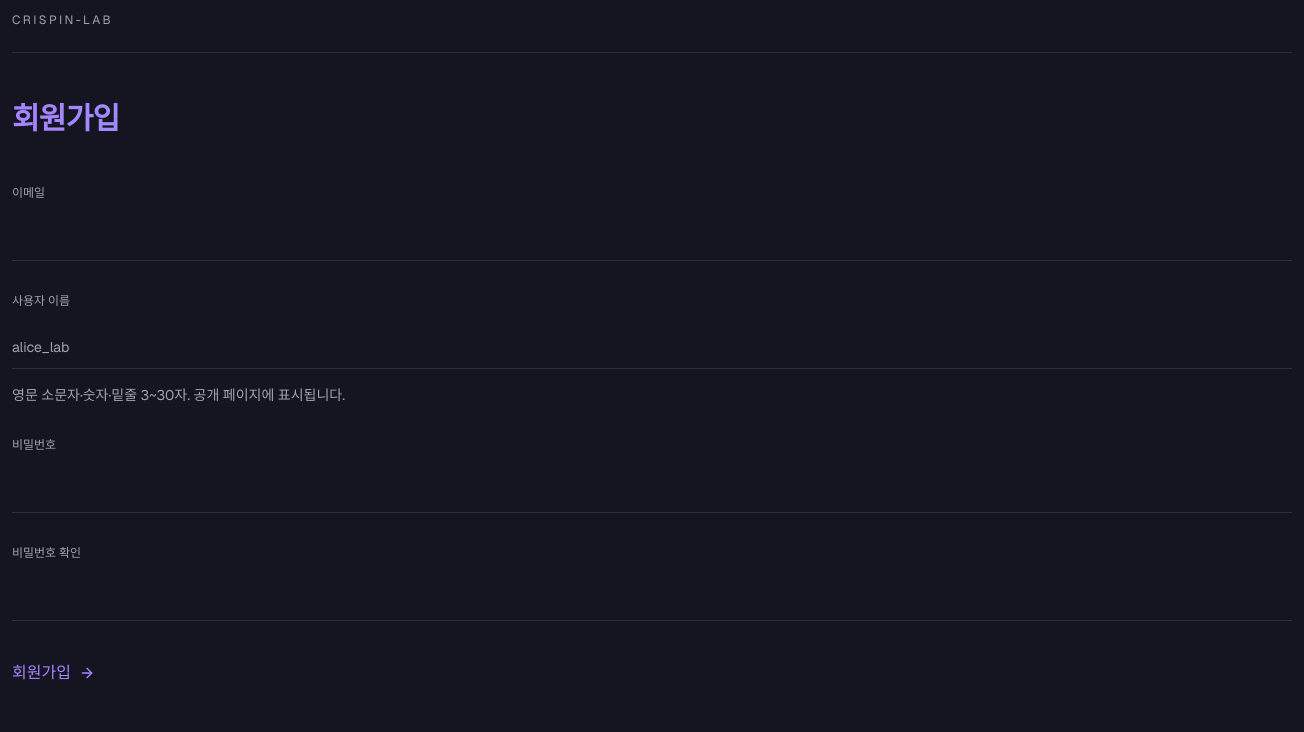
Test: SignupForm › 잘못된 이메일은 FormMessage 를 노출하고 submit 이 막힌다
Type "not-an-email" into the field labelled "이메일" at (652, 239), box [12,217,1292,261]
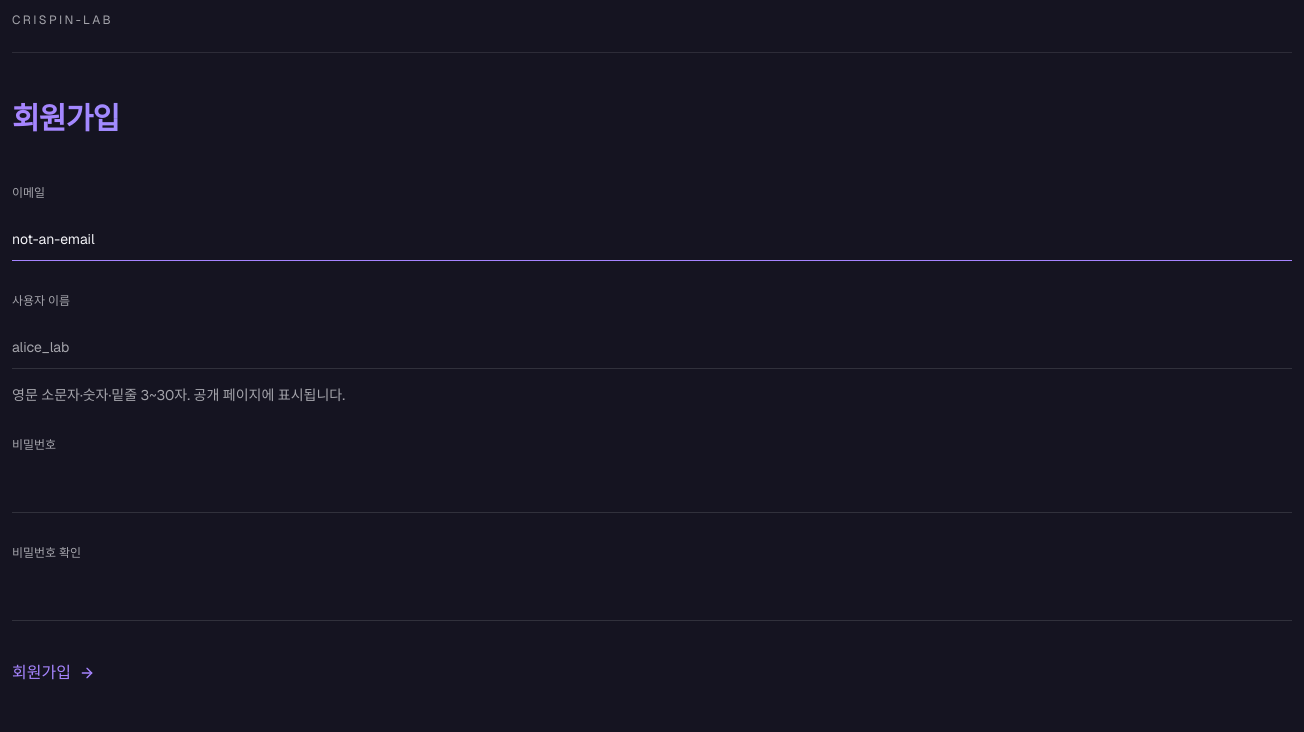
Type "alice" into the field labelled "사용자 이름" at (652, 347), box [12,325,1292,369]
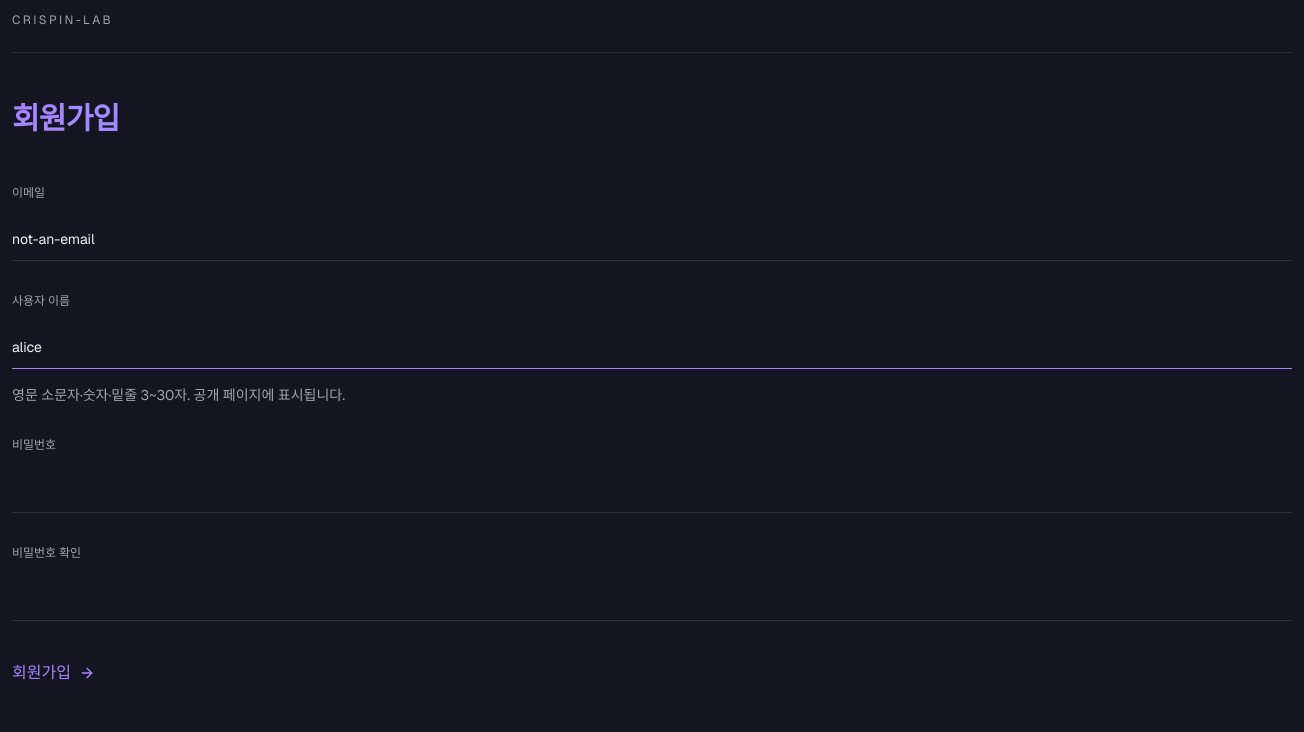
Type "password1" into the password field labelled "비밀번호" at (652, 491), box [12,469,1292,513]
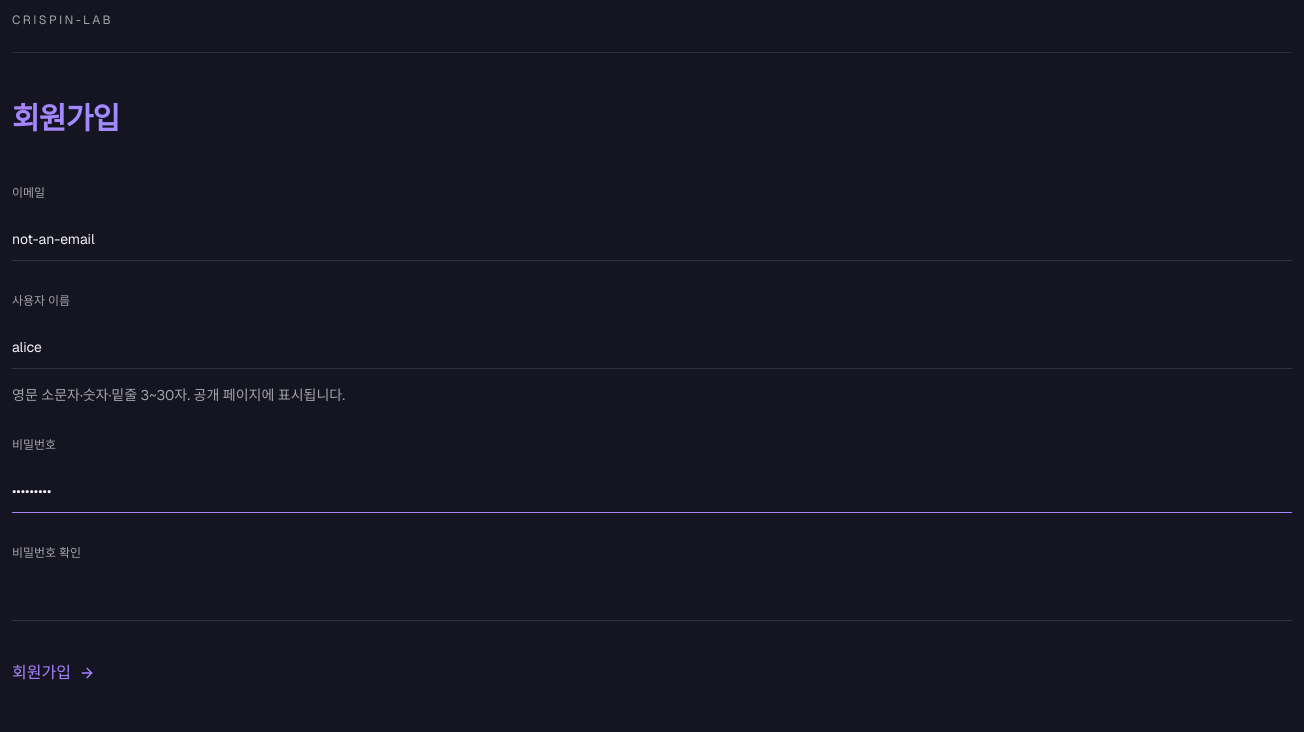
Click the button "회원가입" at (53, 673), box [12,661,95,685]
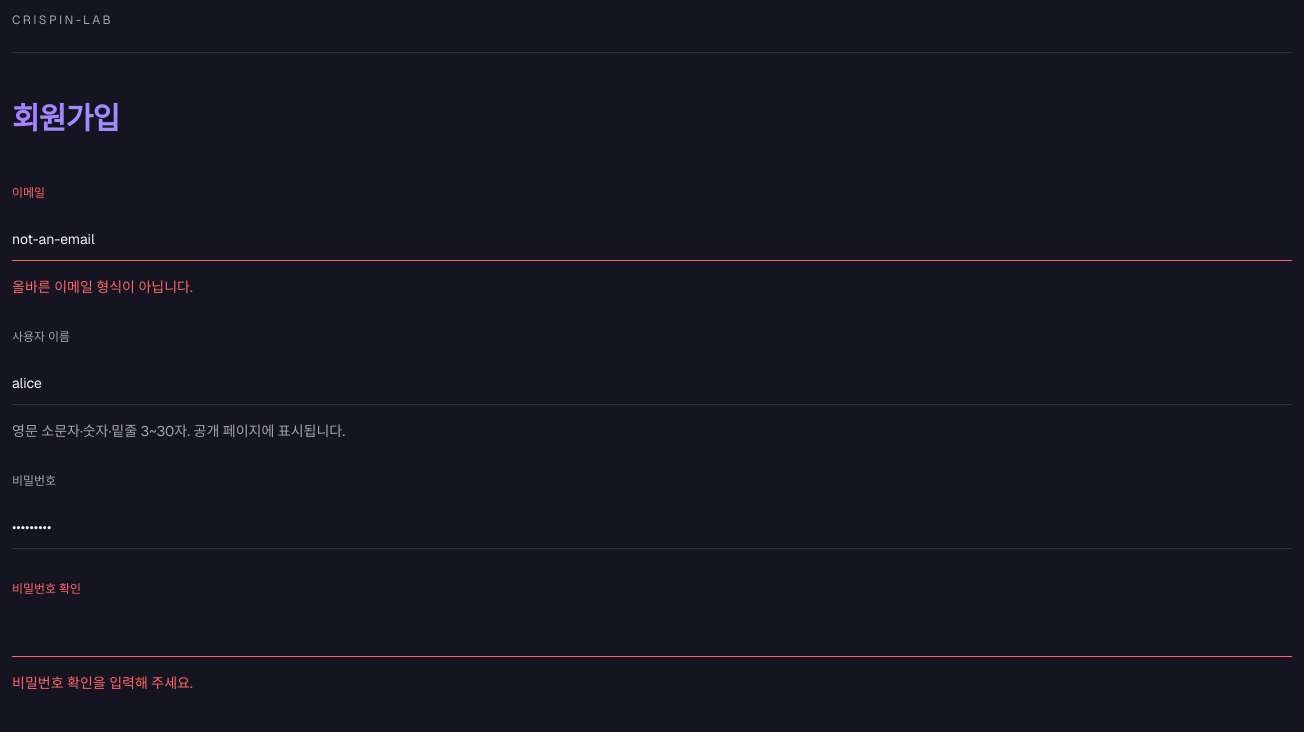
Expected: the text "올바른 이메일 형식이 아닙니다." is shown, [12,278,193,296]
